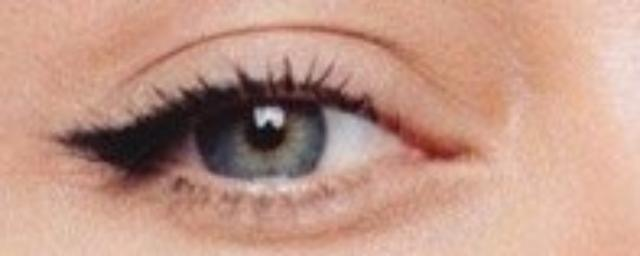eye: (194, 86, 320, 160)
